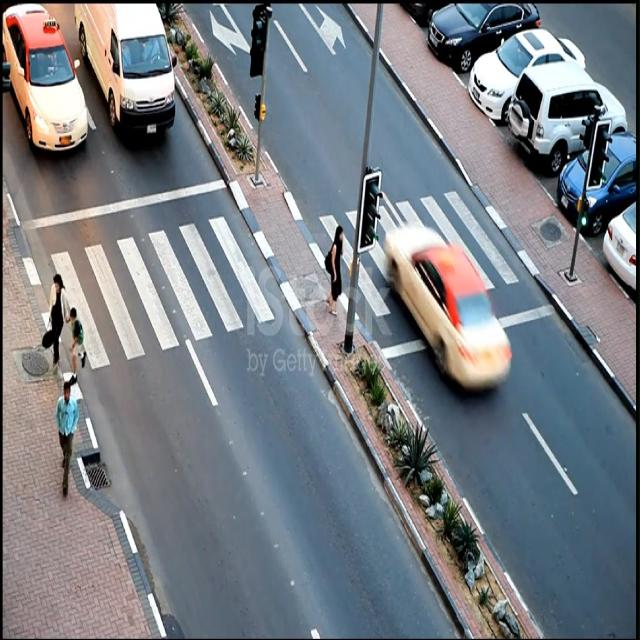pedestrian: (55, 381, 78, 495), (49, 274, 69, 366), (325, 226, 342, 314), (71, 308, 86, 382)
